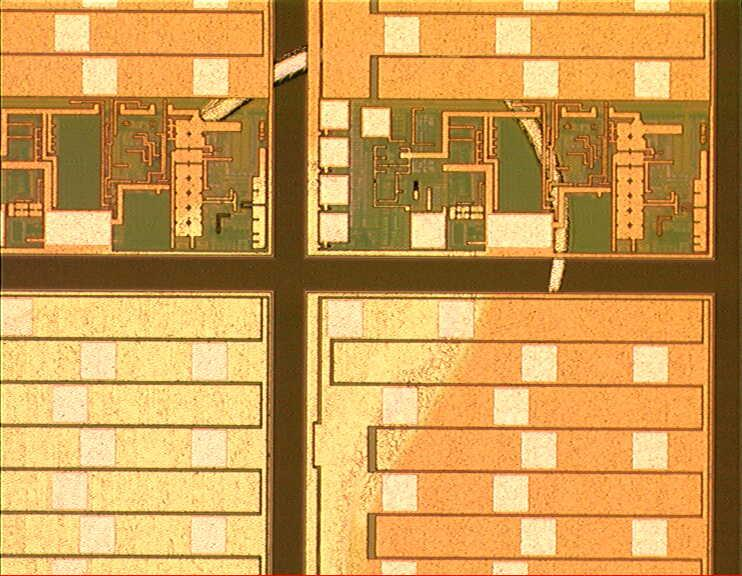COATING BAD: (1, 34, 575, 576)
